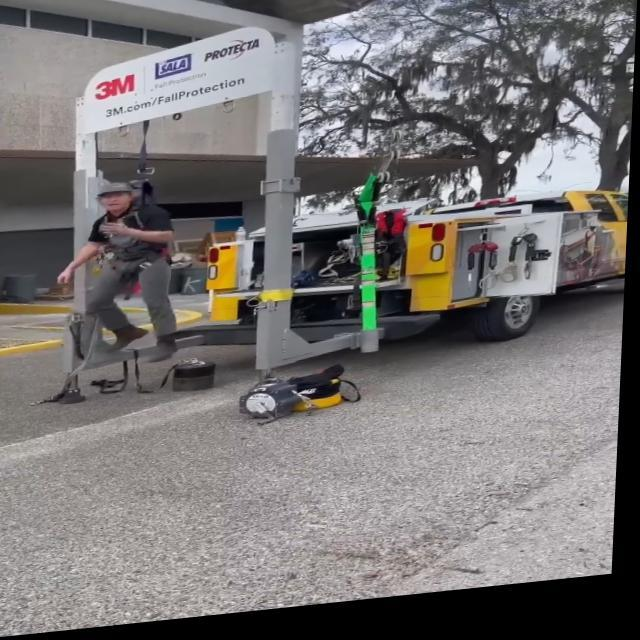belt: (80, 170, 198, 288)
